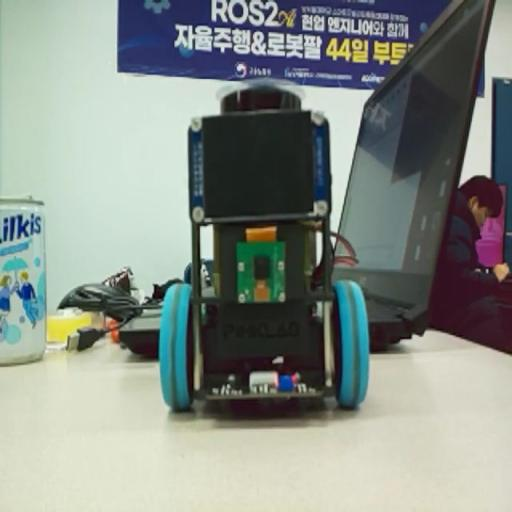pinky_63: (147, 70, 393, 428)
